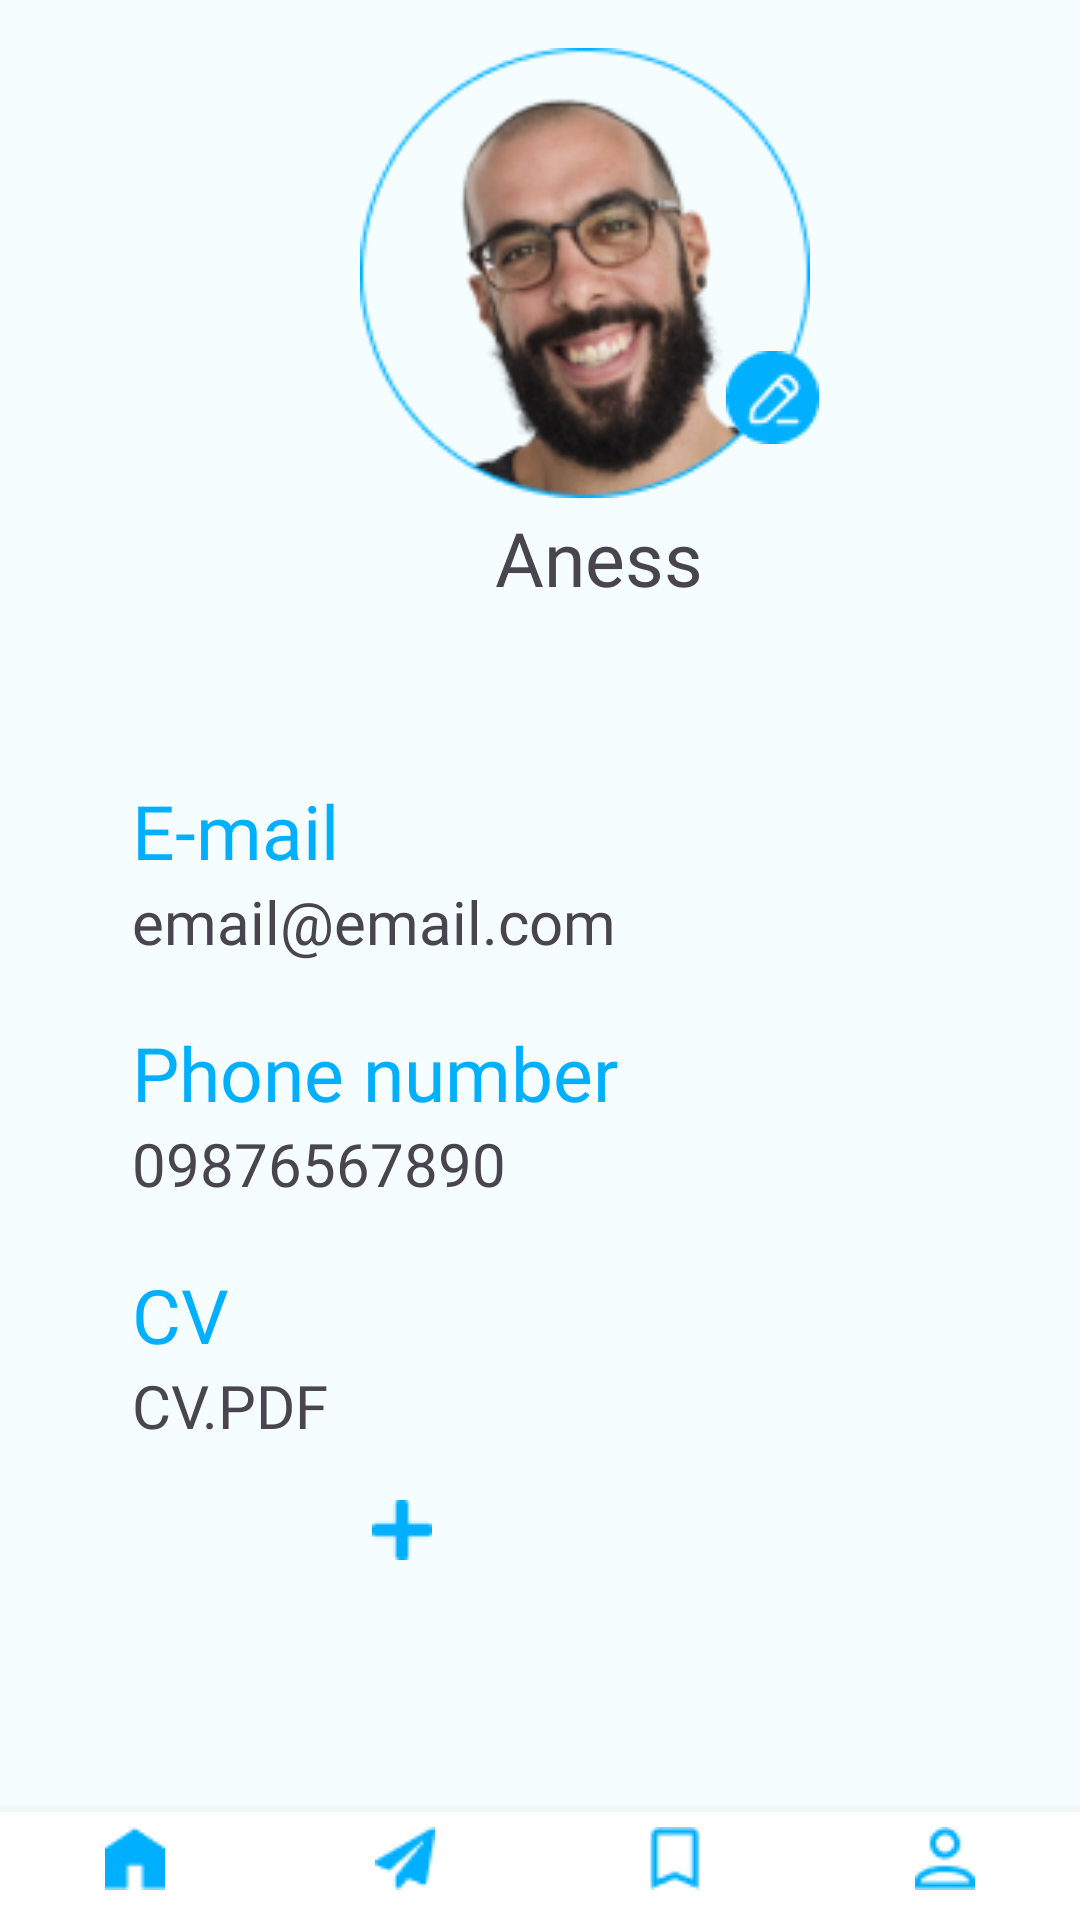

Icons on this 1080px x 1920px Android screen, each with the point to tap as (x=x, y=y):
home: (x=135, y=1858)
message: (x=405, y=1858)
plus: (x=402, y=1530)
profil: (x=945, y=1858)
save: (x=675, y=1858)
